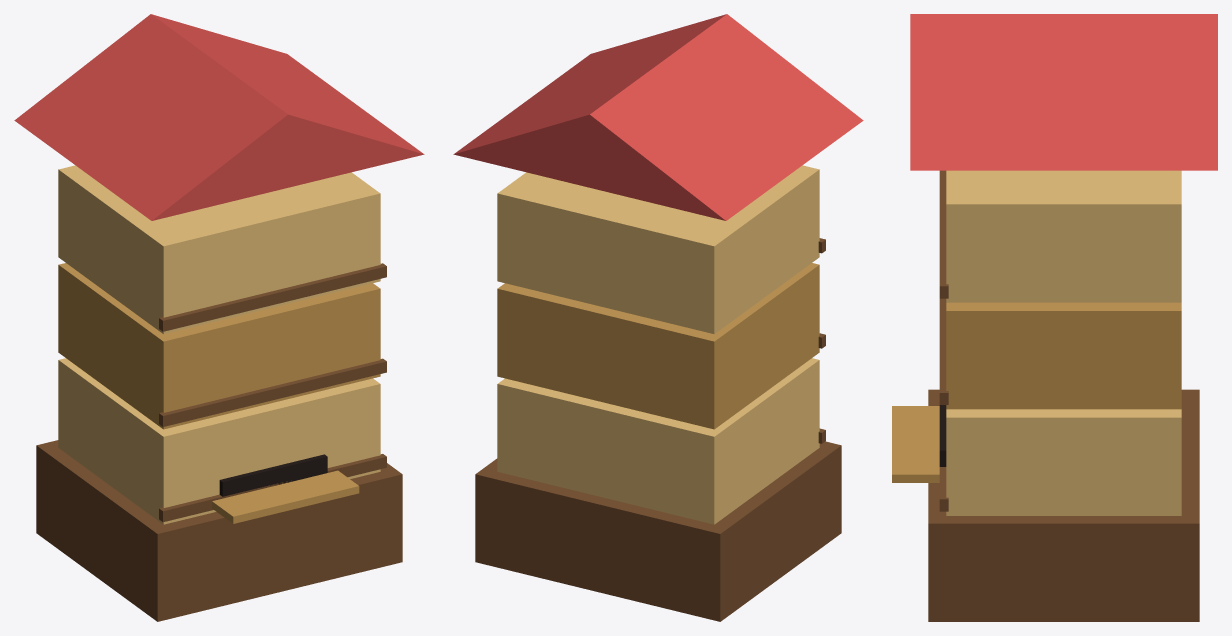
Rendered from beehive.glb.
The picture shows the model from 3 angles, left to right: view 1: azimuth 30°, elevation 25°; view 2: azimuth 150°, elevation 25°; view 3: azimuth 270°, elevation 25°; orthographic projection. The views are drawn at different scales.
Parts seen in each view (by area): view 1: HiveMesh; view 2: HiveMesh; view 3: HiveMesh.
Part boxes in pixels (bbox=[...]): HiveMesh: bbox=[14, 14, 424, 621]; HiveMesh: bbox=[453, 14, 863, 621]; HiveMesh: bbox=[892, 14, 1217, 621].
Size of the model in its own units: 0.78 by 1.32 by 0.72.
